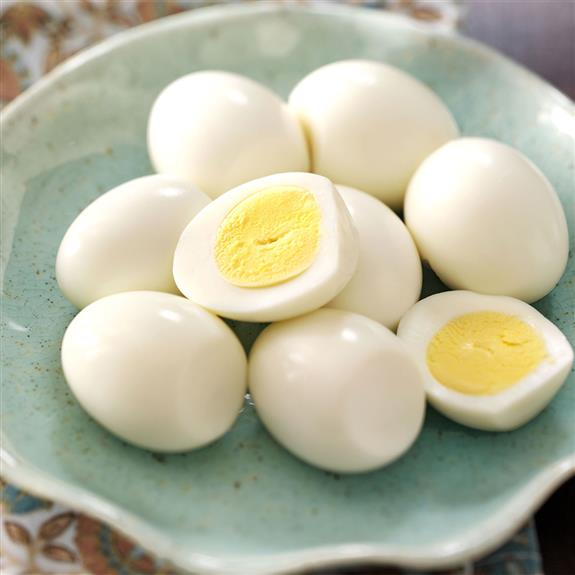egg: (392, 135, 575, 307), (246, 298, 429, 470), (62, 282, 245, 454), (170, 159, 353, 331), (139, 52, 322, 224), (281, 43, 464, 215), (290, 177, 441, 324), (409, 279, 560, 426), (51, 157, 202, 304)
